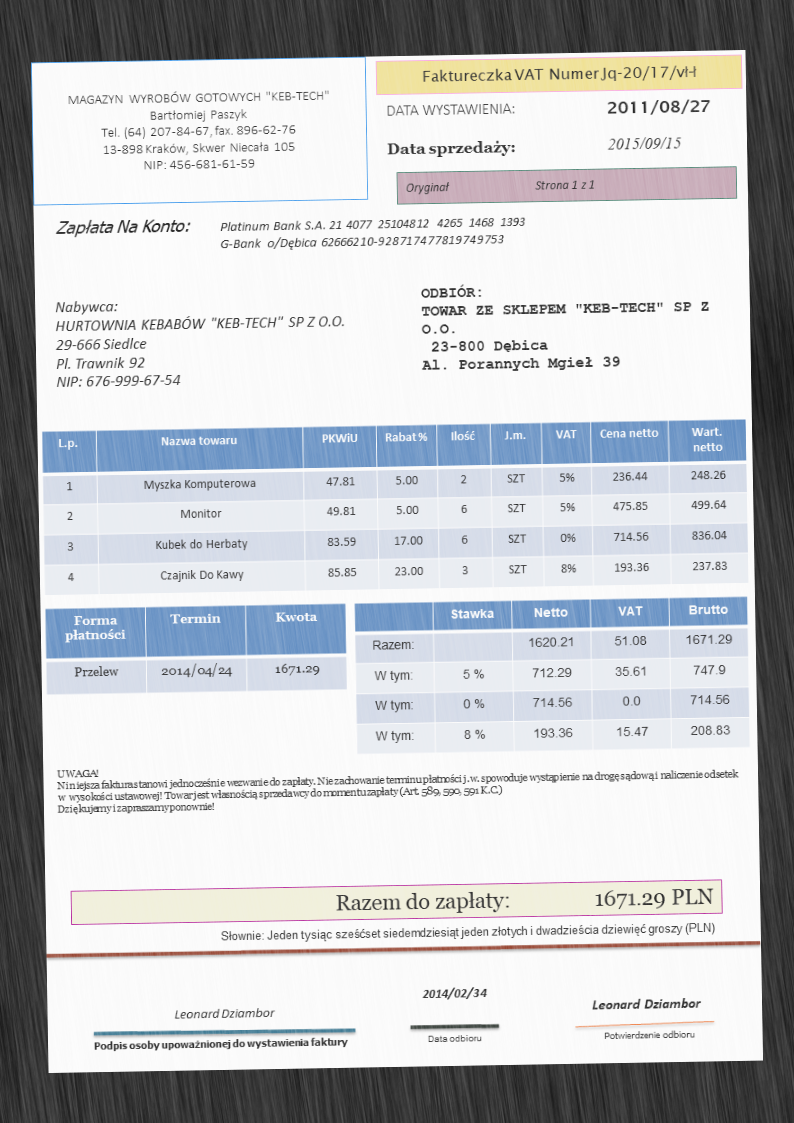Table: (41, 417, 749, 597), (353, 595, 751, 755), (44, 602, 348, 697)
TextBox: (54, 755, 742, 818), (417, 276, 715, 375), (51, 293, 346, 391), (65, 86, 333, 175), (219, 917, 715, 947), (333, 883, 716, 918), (217, 213, 529, 254), (419, 62, 697, 86), (91, 1033, 351, 1054), (404, 178, 595, 197), (53, 215, 192, 239), (384, 138, 519, 160), (384, 99, 516, 120), (605, 97, 712, 120), (588, 995, 701, 1012), (172, 1004, 278, 1022), (606, 134, 682, 153), (602, 1028, 696, 1042), (421, 984, 488, 1002), (424, 1030, 483, 1046)
